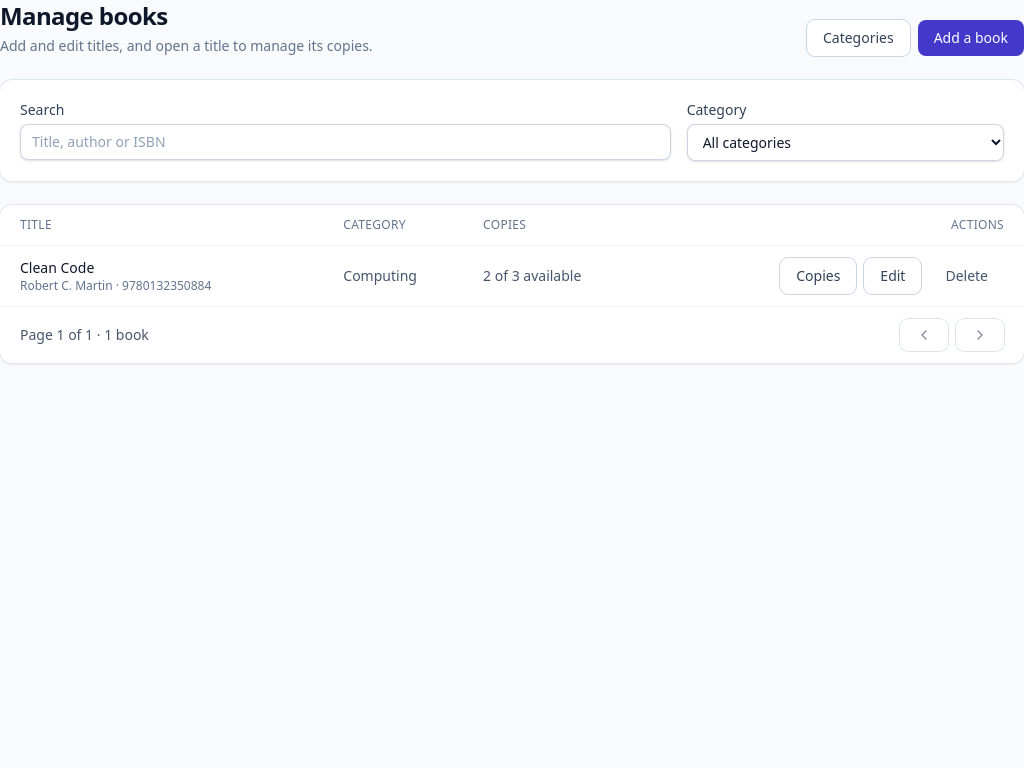
ManageBooksPage › deletes only after confirmation
Expected: the link "Clean Code" is shown, [20,258,94,277]
Click the button with aria-label "Delete Clean Code". click: (967, 276)
box: [929,258,1004,294]
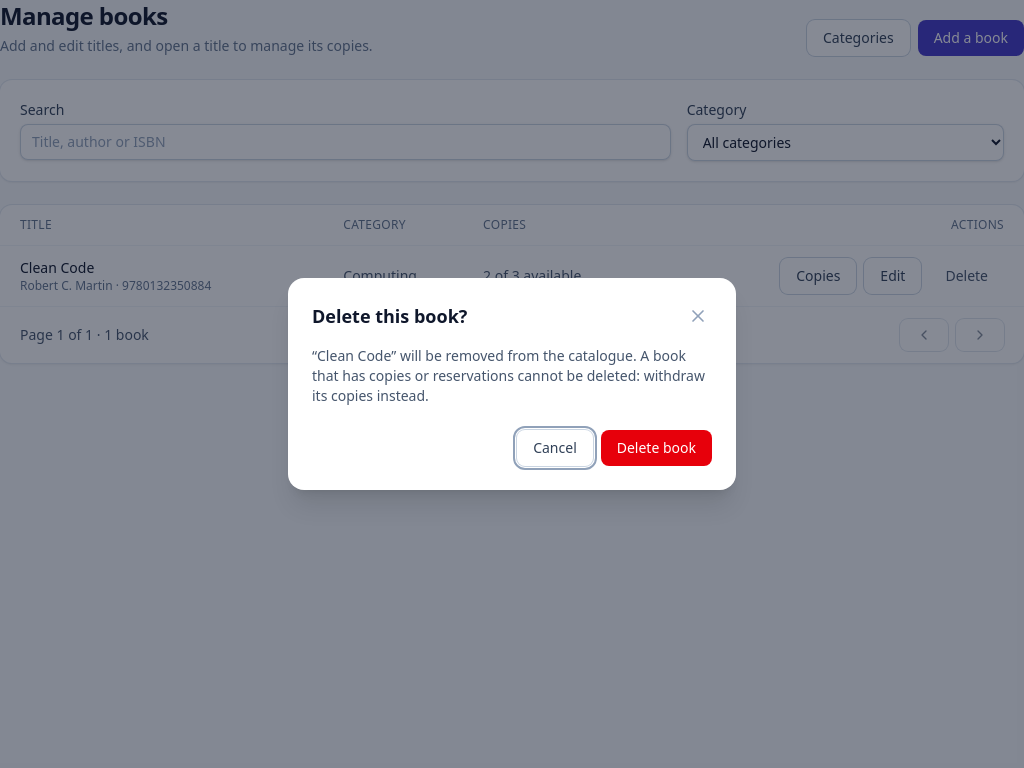
Click the button "Delete book". click: (656, 448)
box: [601,430,712,466]
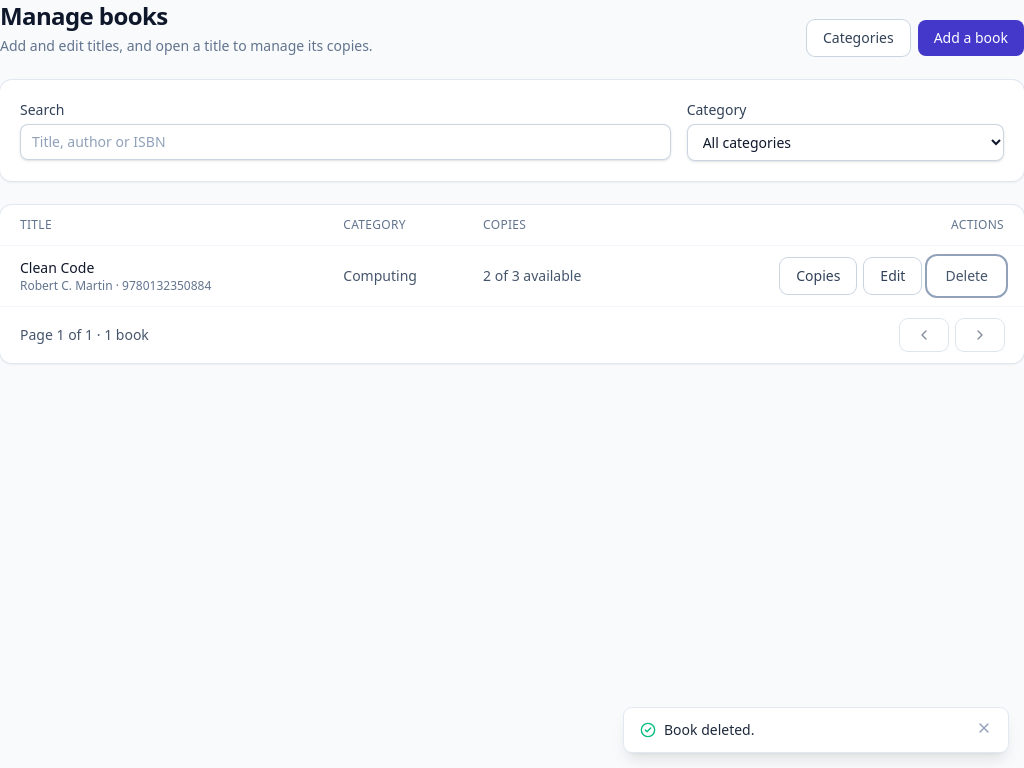
Result: the text "Book deleted." is shown at [664,720,754,739]
